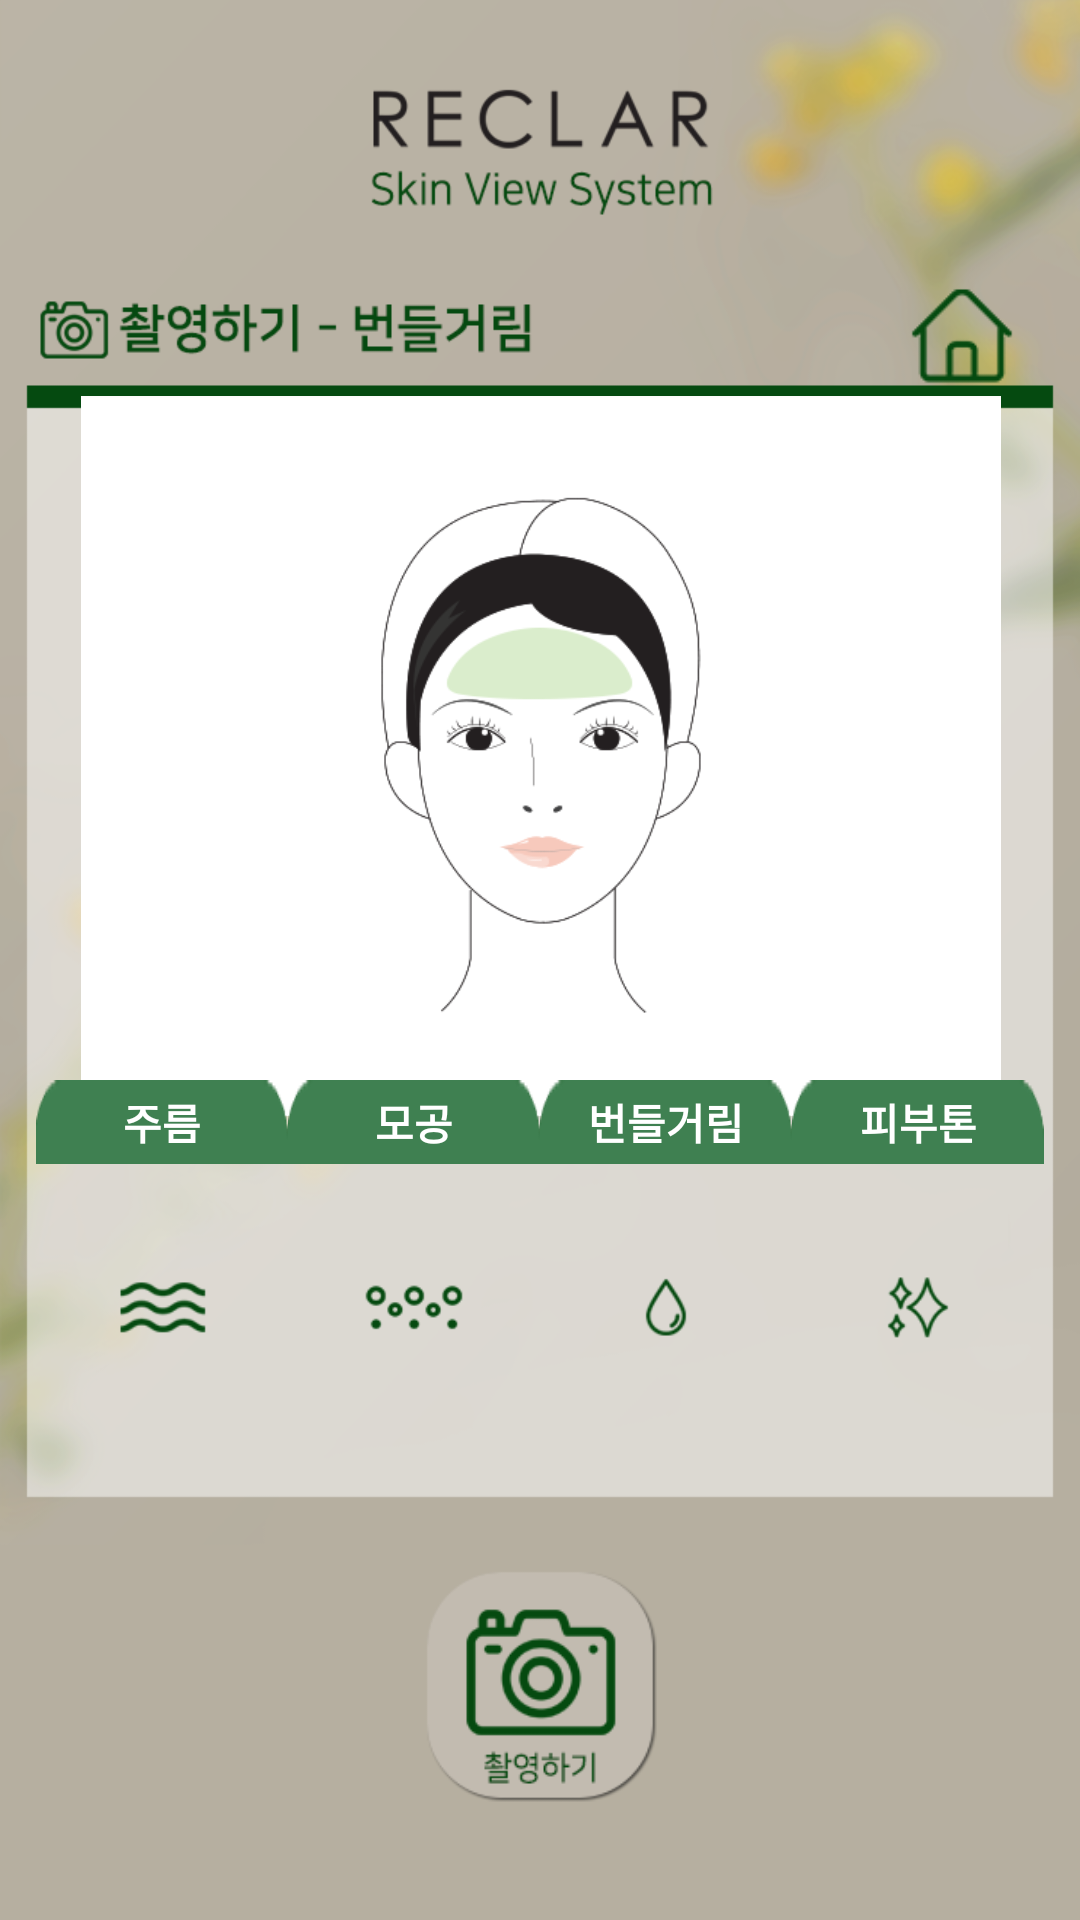

Where to tap for icons on this 1080w x 1920h app screen, as (x,y):
home: (962,335)
oily: (666,1307)
pore: (414,1307)
tone: (918,1307)
wrinkle: (163,1307)
